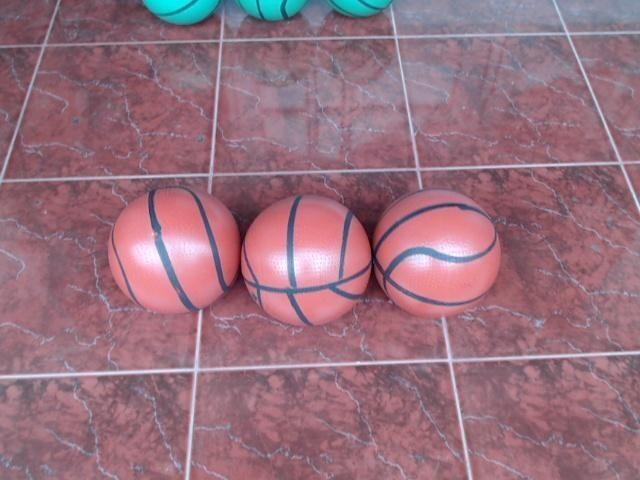Sports-Ball: (105, 181, 239, 322), (239, 190, 370, 326), (372, 194, 502, 321)
